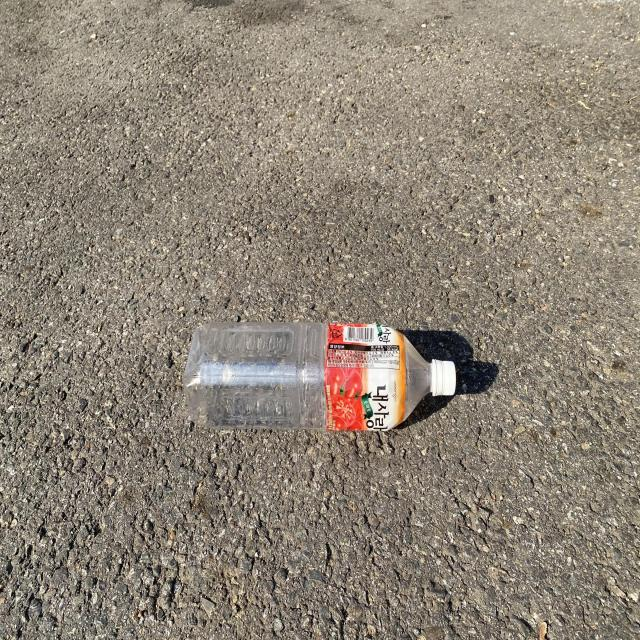plastic: (183, 323, 457, 431)
